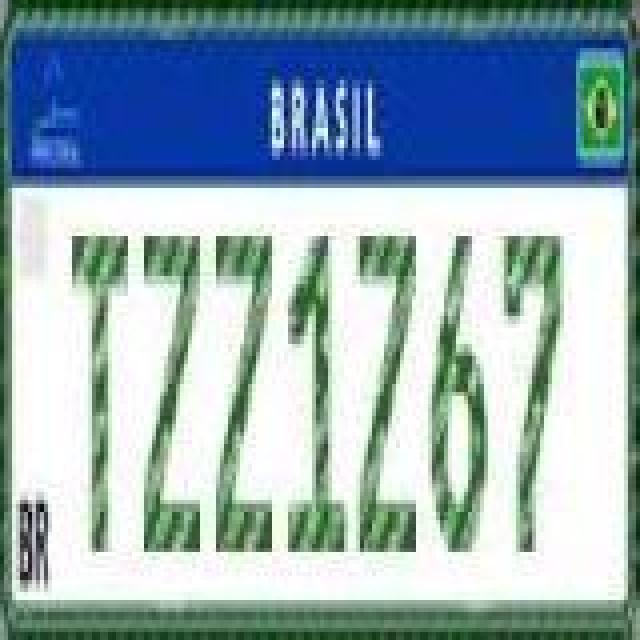1: (282, 230, 350, 554)
6: (426, 230, 486, 554)
7: (500, 224, 564, 560)
T: (68, 230, 132, 554)
Z: (140, 230, 204, 554), (212, 230, 276, 554), (358, 238, 418, 562)
